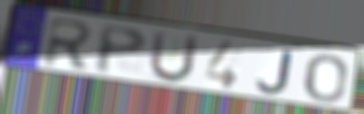4: (203, 39, 239, 93)
J: (255, 49, 294, 96)
O: (303, 53, 350, 104)
P: (93, 23, 150, 77)
R: (41, 16, 96, 72)
U: (147, 29, 202, 85)
